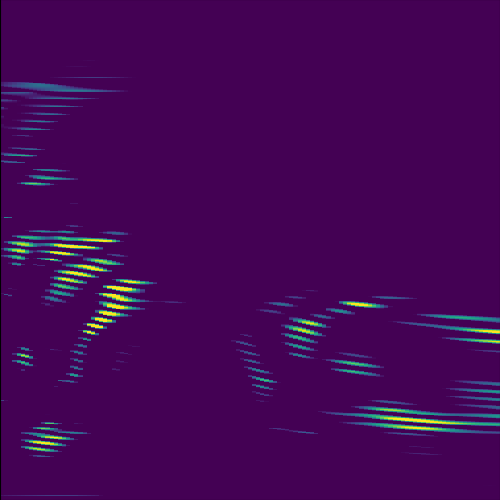semblance: (357, 404, 454, 439), (44, 257, 127, 294), (36, 232, 121, 262), (90, 277, 155, 316)
